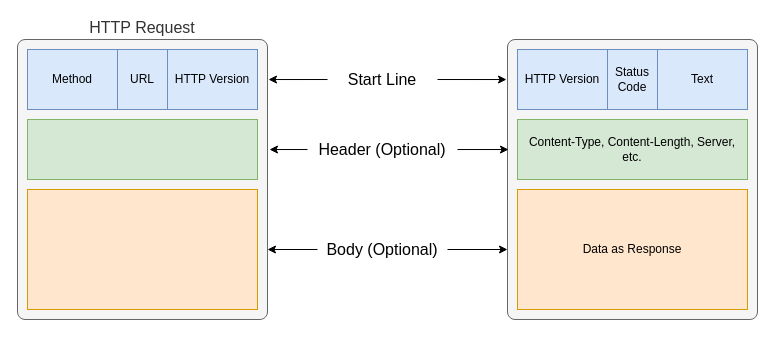
Image size: 775x337. Some labels were removed from this diagram. The box of each missing label's shape, as (x1, y1, x2, y2) in pixels:
Data along Request: (26, 188, 258, 310)
Host, Content-Type, Content-Length, etc.: (26, 118, 258, 180)
HTTP Response: (506, 38, 758, 320)
